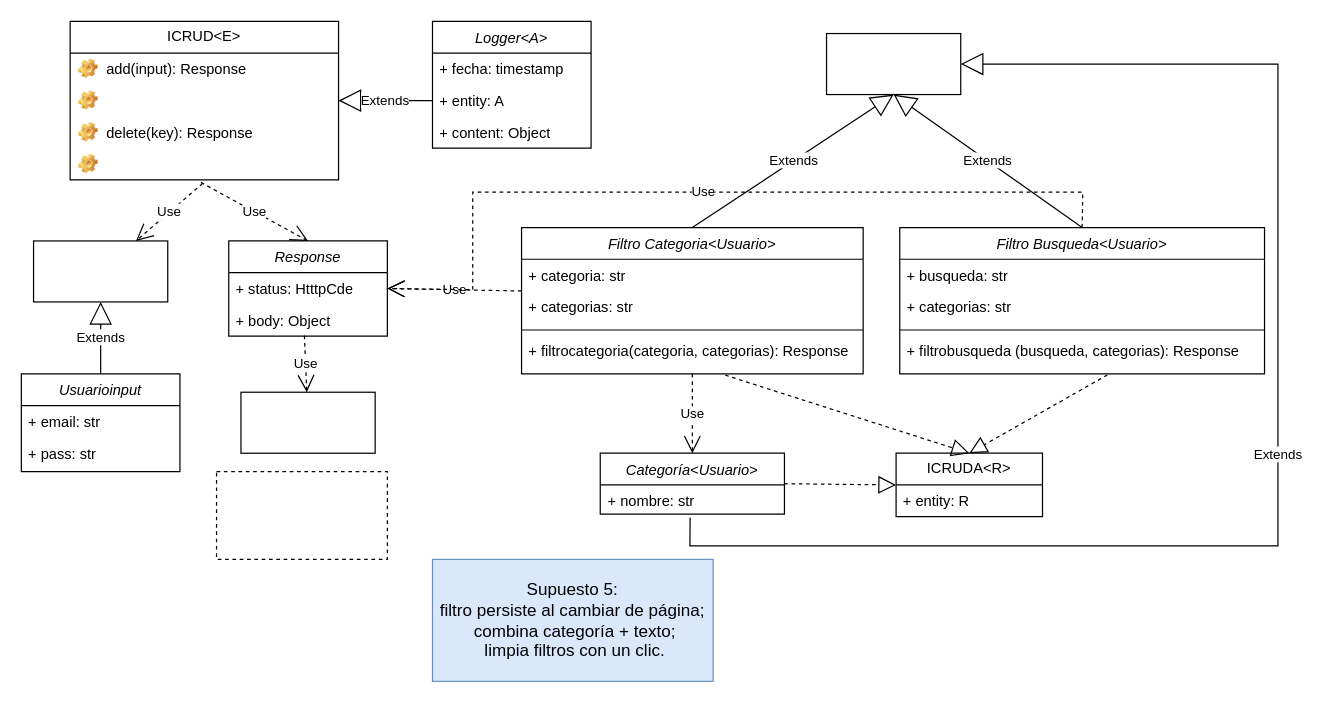
Some shapes in this 1324 by 703 pixel diagram are drawn without their labels. Each missing label, with the centre of its shape:
"200: OK 400: Not Allowed 401: Unauthorized 404: Not Found" goes at [301,514].
"HttpCode" goes at [307,422].
"query(key): Response" goes at [204,163].
"update(key, input): Response" goes at [204,100].
"«interface» ICRUD" goes at [893,63].
"«interface» input" goes at [100,271].
